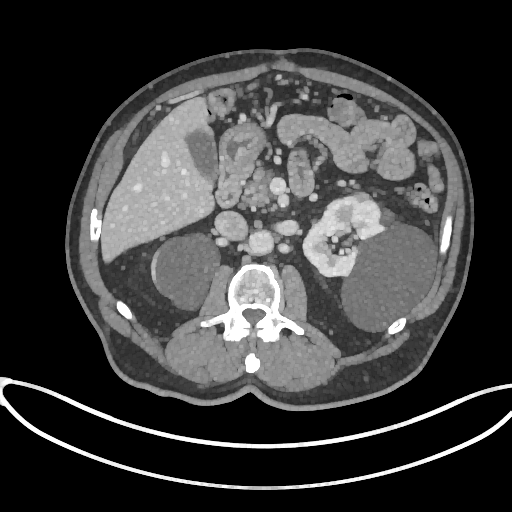Lesion: (355, 191, 370, 204)
